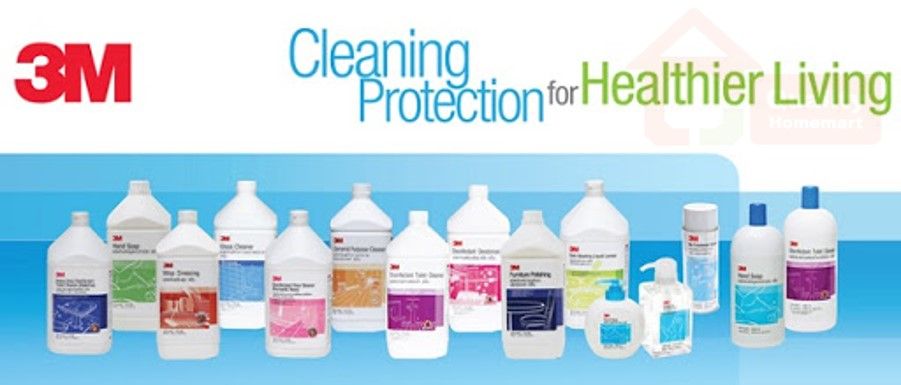Cleaning_solution: (556, 176, 638, 336), (152, 204, 227, 367), (101, 181, 178, 333), (497, 207, 572, 363), (441, 180, 514, 336), (325, 181, 396, 339), (210, 176, 281, 333), (263, 207, 336, 359), (384, 207, 454, 363), (44, 209, 117, 358), (728, 200, 790, 353), (782, 182, 841, 334), (637, 254, 696, 363), (580, 275, 646, 361), (679, 197, 723, 315)
